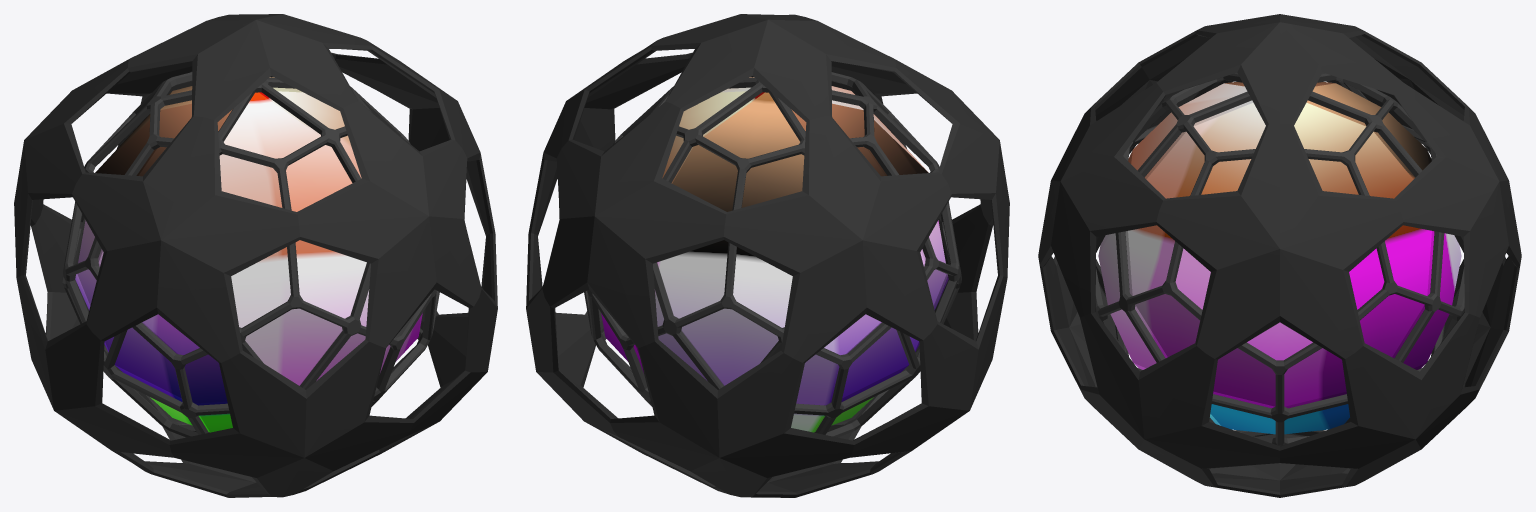
Rendered from ItemBox.fbx.
3 renders of one model, left to right at view 1: azimuth 30°, elevation 25°; view 2: azimuth 150°, elevation 25°; view 3: azimuth 270°, elevation 25°, orthographic.
Parts seen in each view (by area): view 1: ItemBox, LightBox, InnerBox; view 2: ItemBox, LightBox, InnerBox; view 3: ItemBox, LightBox, InnerBox.
Part boxes in pixels (x1=…): ItemBox: x1=14, y1=14, x2=497, y2=497; LightBox: x1=75, y1=77, x2=422, y2=432; InnerBox: x1=62, y1=72, x2=439, y2=437; ItemBox: x1=526, y1=14, x2=1009, y2=497; LightBox: x1=601, y1=77, x2=948, y2=432; InnerBox: x1=584, y1=72, x2=961, y2=437; ItemBox: x1=1038, y1=14, x2=1521, y2=497; LightBox: x1=1098, y1=82, x2=1461, y2=434; InnerBox: x1=1095, y1=72, x2=1464, y2=445.
Size of the model in its own units: 1.69 by 1.7 by 1.81.
